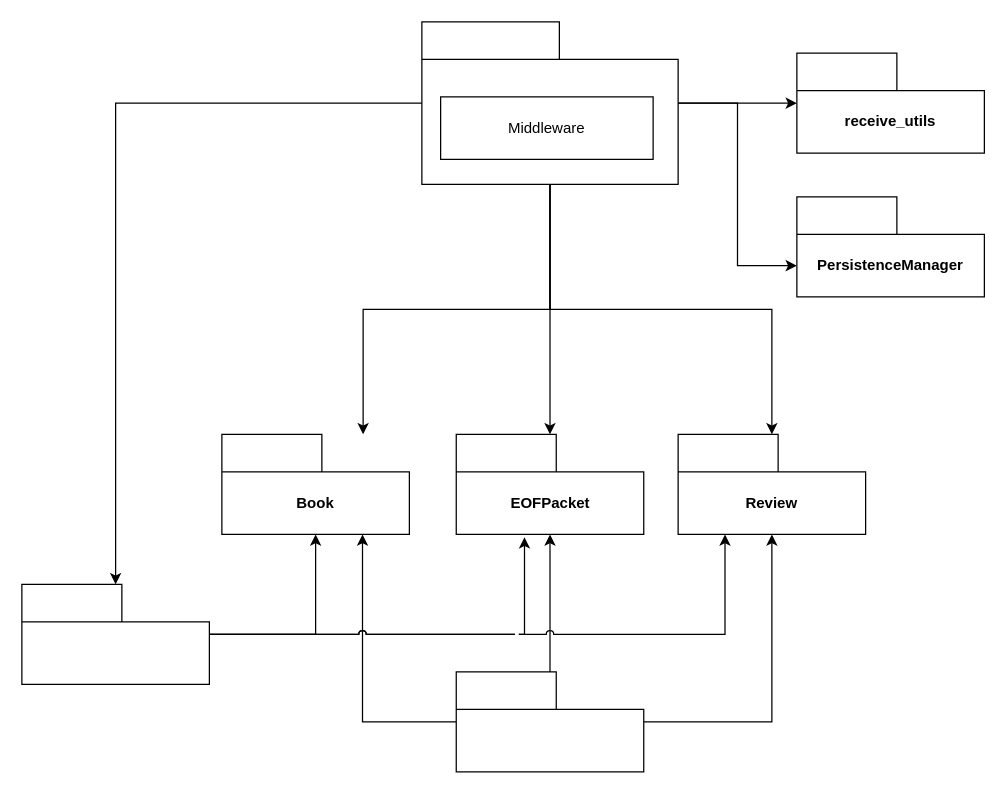
The diagram is 1006 pixels wide and 794 high, and some of its shapes have lost their labels. The centre of each missing label's shape, as x and y in pixels:
"Input Gateway" belongs at (x=549, y=102).
"Packet" belongs at (x=549, y=721).
"PacketDecoder" belongs at (x=115, y=633).
